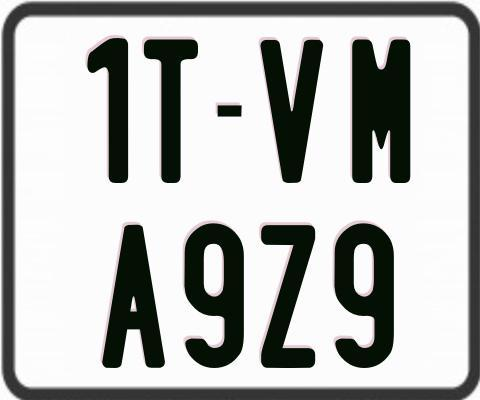1: (86, 36, 131, 186)
9: (334, 220, 396, 371), (184, 220, 244, 369)
A: (102, 223, 170, 372)
M: (350, 37, 409, 185)
T: (142, 36, 201, 185)
V: (258, 39, 324, 187)
Z: (260, 222, 320, 370)
